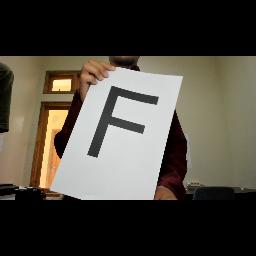f: (84, 85, 162, 167)
